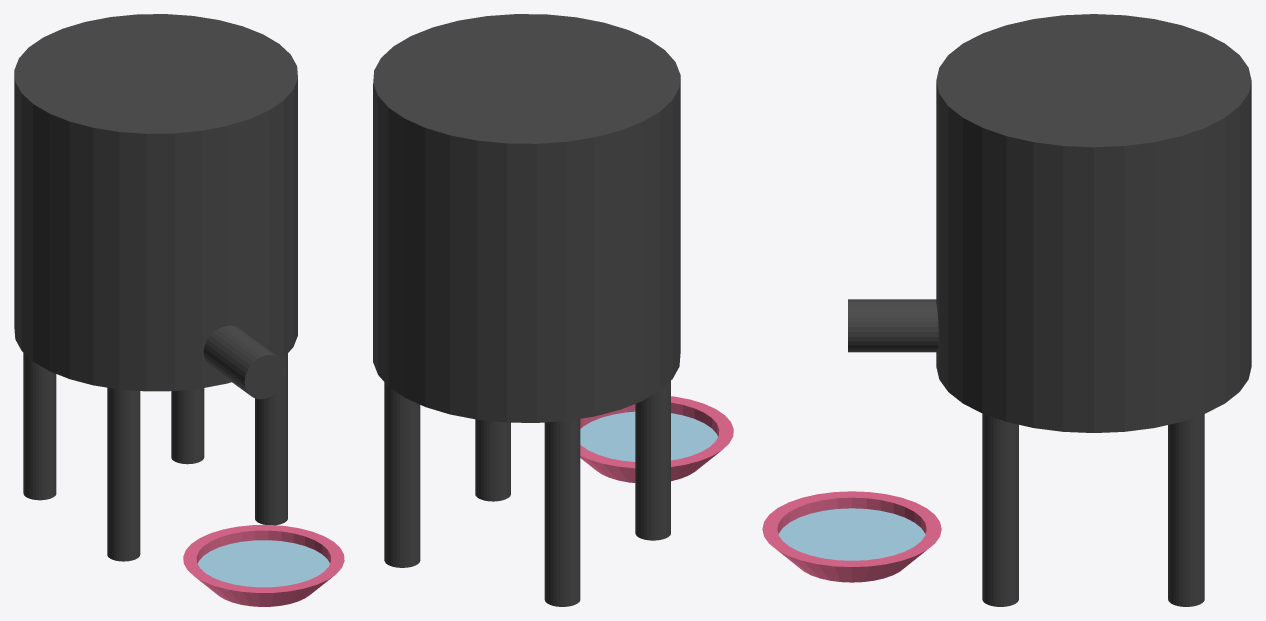
File: watertank.fbx
3 views of the same model, side by side, from view 1: azimuth 30°, elevation 25°; view 2: azimuth 150°, elevation 25°; view 3: azimuth 270°, elevation 25° (orthographic). The views are drawn at different scales.
Visible parts, largest first — view 1: Cylinder, Cylinder.006, Cylinder.001, Cylinder.003, Cylinder.002, Cylinder.005, Cylinder.004; view 2: Cylinder, Cylinder.006, Cylinder.003, Cylinder.004, Cylinder.001, Cylinder.002; view 3: Cylinder, Cylinder.006, Cylinder.002, Cylinder.004, Cylinder.005.
Boxes of the visible parts, bbox=[...] form: Cylinder: bbox=[14, 14, 297, 391]; Cylinder.006: bbox=[183, 525, 344, 606]; Cylinder.001: bbox=[107, 387, 140, 561]; Cylinder.003: bbox=[23, 353, 56, 500]; Cylinder.002: bbox=[255, 353, 287, 525]; Cylinder.005: bbox=[203, 325, 285, 399]; Cylinder.004: bbox=[171, 388, 204, 464]; Cylinder: bbox=[373, 14, 680, 422]; Cylinder.006: bbox=[580, 396, 733, 482]; Cylinder.003: bbox=[544, 419, 580, 606]; Cylinder.004: bbox=[384, 382, 420, 567]; Cylinder.001: bbox=[635, 381, 670, 540]; Cylinder.002: bbox=[475, 419, 510, 501]; Cylinder: bbox=[936, 14, 1251, 432]; Cylinder.006: bbox=[762, 491, 941, 582]; Cylinder.002: bbox=[982, 413, 1018, 606]; Cylinder.004: bbox=[1168, 414, 1204, 606]; Cylinder.005: bbox=[848, 299, 938, 352].
Bounding box in the file's own units: 200 × 335 × 310.
